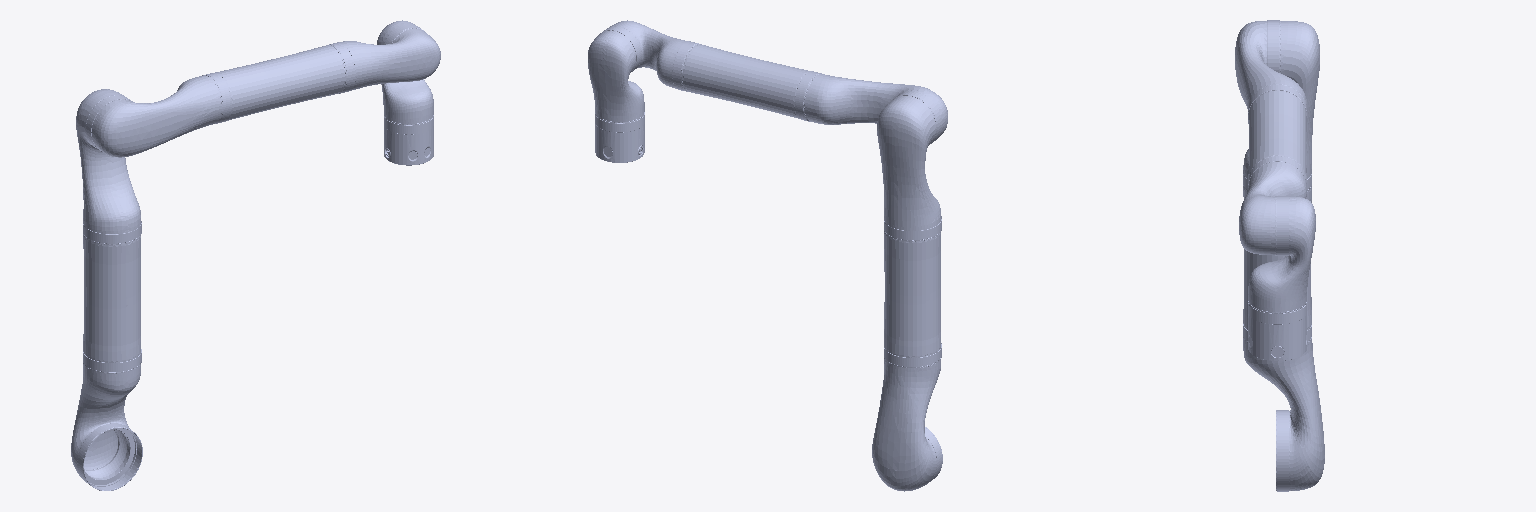
robot.urdf — tl_tcb705l:
<?xml version="1.0" encoding="utf-8"?>
<!-- This URDF was automatically created by SolidWorks to URDF Exporter! Originally created by Stephen Brawner (brawner@gmail.com) 
     Commit Version: 1.6.0-4-g7f85cfe  Build Version: 1.6.7995.38578
     For more information, please see http://wiki.ros.org/sw_urdf_exporter -->
<robot
  name="tl_tcb705l">
  <link
    name="link0">
    <inertial>
      <origin
        xyz="-0.00203916786698491 0.000208461233542917 0.0437970464318419"
        rpy="0 0 0" />
      <mass
        value="0.230943297728628" />
      <inertia
        ixx="0.000578857931988569"
        ixy="2.49644295158404E-06"
        ixz="-3.6276199422181E-06"
        iyy="0.000597326060992728"
        iyz="8.87603974516226E-07"
        izz="0.000630268815467388" />
    </inertial>
    <visual>
      <origin
        xyz="0 0 0"
        rpy="0 0 0" />
      <geometry>
        <mesh
          filename="package://tl_description/meshes/tl_tcb705l/link0.STL" />
      </geometry>
      <material
        name="">
        <color
          rgba="0.792156862745098 0.819607843137255 0.933333333333333 1" />
      </material>
    </visual>
    <collision>
      <origin
        xyz="0 0 0"
        rpy="0 0 0" />
      <geometry>
        <mesh
          filename="package://tl_description/meshes/tl_tcb705l/link0.STL" />
      </geometry>
    </collision>
  </link>
  <link
    name="link1">
    <inertial>
      <origin
        xyz="-2.82592835967246E-06 -0.0149440554612562 0.0760738628611228"
        rpy="0 0 0" />
      <mass
        value="0.188795049535535" />
      <inertia
        ixx="0.000644330974536614"
        ixy="5.55804168467068E-08"
        ixz="-5.40921744937778E-08"
        iyy="0.000669839544820847"
        iyz="0.000101917330586459"
        izz="0.000292784373513458" />
    </inertial>
    <visual>
      <origin
        xyz="0 0 0"
        rpy="0 0 0" />
      <geometry>
        <mesh
          filename="package://tl_description/meshes/tl_tcb705l/link1.STL" />
      </geometry>
      <material
        name="">
        <color
          rgba="0.792156862745098 0.819607843137255 0.933333333333333 1" />
      </material>
    </visual>
    <collision>
      <origin
        xyz="0 0 0"
        rpy="0 0 0" />
      <geometry>
        <mesh
          filename="package://tl_description/meshes/tl_tcb705l/link1.STL" />
      </geometry>
    </collision>
  </link>
  <joint
    name="joint1"
    type="revolute">
    <origin
      xyz="0 0 0.12215"
      rpy="0 0 0" />
    <parent
      link="link0" />
    <child
      link="link1" />
    <axis
      xyz="0 0 1" />
    <limit
      lower="-3.1416"
      upper="3.1416"
      effort="0"
      velocity="0" />
  </joint>
  <link
    name="link2">
    <inertial>
      <origin
        xyz="-4.20257383742726E-06 -0.19194400434504 -0.000180313359437804"
        rpy="0 0 0" />
      <mass
        value="0.528784681879454" />
      <inertia
        ixx="0.00599971810886578"
        ixy="1.42660874273815E-07"
        ixz="5.33946684288784E-10"
        iyy="0.000724362027518048"
        iyz="-0.00053988079982275"
        izz="0.00598246095196836" />
    </inertial>
    <visual>
      <origin
        xyz="0 0 0"
        rpy="0 0 0" />
      <geometry>
        <mesh
          filename="package://tl_description/meshes/tl_tcb705l/link2.STL" />
      </geometry>
      <material
        name="">
        <color
          rgba="0.792156862745098 0.819607843137255 0.933333333333333 1" />
      </material>
    </visual>
    <collision>
      <origin
        xyz="0 0 0"
        rpy="0 0 0" />
      <geometry>
        <mesh
          filename="package://tl_description/meshes/tl_tcb705l/link2.STL" />
      </geometry>
    </collision>
  </link>
  <joint
    name="joint2"
    type="revolute">
    <origin
      xyz="0 0.00665 0.14085"
      rpy="-1.5708 0 0" />
    <parent
      link="link1" />
    <child
      link="link2" />
    <axis
      xyz="0 0 1" />
    <limit
      lower="-2.3737"
      upper="2.3737"
      effort="0"
      velocity="0" />
  </joint>
  <link
    name="link3">
    <inertial>
      <origin
        xyz="5.14309382409588E-06 0.016397275627194 0.085950743765835"
        rpy="0 0 0" />
      <mass
        value="0.168577493982053" />
      <inertia
        ixx="0.000629527693750699"
        ixy="-2.01846512704536E-08"
        ixz="-6.31481179014002E-08"
        iyy="0.000646662243008361"
        iyz="-9.33674517466634E-05"
        izz="0.000173965232232951" />
    </inertial>
    <visual>
      <origin
        xyz="0 0 0"
        rpy="0 0 0" />
      <geometry>
        <mesh
          filename="package://tl_description/meshes/tl_tcb705l/link3.STL" />
      </geometry>
      <material
        name="">
        <color
          rgba="0.792156862745098 0.819607843137255 0.933333333333333 1" />
      </material>
    </visual>
    <collision>
      <origin
        xyz="0 0 0"
        rpy="0 0 0" />
      <geometry>
        <mesh
          filename="package://tl_description/meshes/tl_tcb705l/link3.STL" />
      </geometry>
    </collision>
  </link>
  <joint
    name="joint3"
    type="revolute">
    <origin
      xyz="0 -0.35915 -0.00665"
      rpy="1.5708 0 0" />
    <parent
      link="link2" />
    <child
      link="link3" />
    <axis
      xyz="0 0 1" />
    <limit
      lower="-3.1416"
      upper="3.1416"
      effort="0"
      velocity="0" />
  </joint>
  <link
    name="link4">
    <inertial>
      <origin
        xyz="4.67748622520898E-07 0.190684816385664 0.00158652388734265"
        rpy="0 0 0" />
      <mass
        value="0.422517069527334" />
      <inertia
        ixx="0.00489098627866591"
        ixy="9.20095599114699E-08"
        ixz="2.35656254351612E-09"
        iyy="0.000427800317518501"
        iyz="0.000428033380752947"
        izz="0.0048724694443363" />
    </inertial>
    <visual>
      <origin
        xyz="0 0 0"
        rpy="0 0 0" />
      <geometry>
        <mesh
          filename="package://tl_description/meshes/tl_tcb705l/link4.STL" />
      </geometry>
      <material
        name="">
        <color
          rgba="0.792156862745098 0.819607843137255 0.933333333333333 1" />
      </material>
    </visual>
    <collision>
      <origin
        xyz="0 0 0"
        rpy="0 0 0" />
      <geometry>
        <mesh
          filename="package://tl_description/meshes/tl_tcb705l/link4.STL" />
      </geometry>
    </collision>
  </link>
  <joint
    name="joint4"
    type="revolute">
    <origin
      xyz="0 -0.00515 0.16035"
      rpy="1.5708 1.5708 0" />
    <parent
      link="link3" />
    <child
      link="link4" />
    <axis
      xyz="0 0 -1" />
    <limit
      lower="-4.1423"
      upper="0.9935"
      effort="0"
      velocity="0" />
  </joint>
  <link
    name="link5">
    <inertial>
      <origin
        xyz="5.11048107014162E-06 -0.0131445598574518 0.0626746043899866"
        rpy="0 0 0" />
      <mass
        value="0.0899817886682776" />
      <inertia
        ixx="0.000204808490643616"
        ixy="1.16223792980809E-08"
        ixz="-4.07644803026248E-08"
        iyy="0.000207969738028478"
        iyz="3.60478115175274E-05"
        izz="7.75189800155889E-05" />
    </inertial>
    <visual>
      <origin
        xyz="0 0 0"
        rpy="0 0 0" />
      <geometry>
        <mesh
          filename="package://tl_description/meshes/tl_tcb705l/link5.STL" />
      </geometry>
      <material
        name="">
        <color
          rgba="0.792156862745098 0.819607843137255 0.933333333333333 1" />
      </material>
    </visual>
    <collision>
      <origin
        xyz="0 0 0"
        rpy="0 0 0" />
      <geometry>
        <mesh
          filename="package://tl_description/meshes/tl_tcb705l/link5.STL" />
      </geometry>
    </collision>
  </link>
  <joint
    name="joint5"
    type="revolute">
    <origin
      xyz="0 0.36715 -0.00515"
      rpy="-1.5708 0 0" />
    <parent
      link="link4" />
    <child
      link="link5" />
    <axis
      xyz="0 0 1" />
    <limit
      lower="-3.1416"
      upper="3.1416"
      effort="0"
      velocity="0" />
  </joint>
  <link
    name="link6">
    <inertial>
      <origin
        xyz="-1.29749982568617E-05 -0.0398707312600481 0.00873816110109462"
        rpy="0 0 0" />
      <mass
        value="0.0915266768417438" />
      <inertia
        ixx="0.000167005961446363"
        ixy="3.62631342384466E-08"
        ixz="1.27355290609001E-08"
        iyy="8.0713041391208E-05"
        iyz="-3.15887030570802E-05"
        izz="0.000170834721676797" />
    </inertial>
    <visual>
      <origin
        xyz="0 0 0"
        rpy="0 0 0" />
      <geometry>
        <mesh
          filename="package://tl_description/meshes/tl_tcb705l/link6.STL" />
      </geometry>
      <material
        name="">
        <color
          rgba="0.792156862745098 0.819607843137255 0.933333333333333 1" />
      </material>
    </visual>
    <collision>
      <origin
        xyz="0 0 0"
        rpy="0 0 0" />
      <geometry>
        <mesh
          filename="package://tl_description/meshes/tl_tcb705l/link6.STL" />
      </geometry>
    </collision>
  </link>
  <joint
    name="joint6"
    type="revolute">
    <origin
      xyz="0 0.00615 0.11335"
      rpy="-1.5708 1.5708 0" />
    <parent
      link="link5" />
    <child
      link="link6" />
    <axis
      xyz="0 0 1" />
    <limit
      lower="-3.8386"
      upper="0.6970"
      effort="0"
      velocity="0" />
  </joint>
  <link
    name="link7">
    <inertial>
      <origin
        xyz="0.00038939749044996 -8.96781011563167E-05 0.0324677284602475"
        rpy="0 0 0" />
      <mass
        value="0.0756964619257995" />
      <inertia
        ixx="5.73362607122953E-05"
        ixy="-1.00642148858379E-08"
        ixz="-3.24157450634543E-07"
        iyy="5.7604236883255E-05"
        iyz="1.43757533804165E-08"
        izz="7.09157247329385E-05" />
    </inertial>
    <visual>
      <origin
        xyz="0 0 0"
        rpy="0 0 0" />
      <geometry>
        <mesh
          filename="package://tl_description/meshes/tl_tcb705l/link7.STL" />
      </geometry>
      <material
        name="">
        <color
          rgba="0.792156862745098 0.819607843137255 0.933333333333333 1" />
      </material>
    </visual>
    <collision>
      <origin
        xyz="0 0 0"
        rpy="0 0 0" />
      <geometry>
        <mesh
          filename="package://tl_description/meshes/tl_tcb705l/link7.STL" />
      </geometry>
    </collision>
  </link>
  <joint
    name="joint7"
    type="revolute">
    <origin
      xyz="0 -0.10615 -0.00615"
      rpy="1.5708 0 0" />
    <parent
      link="link6" />
    <child
      link="link7" />
    <axis
      xyz="0 0 1" />
    <limit
      lower="-3.1416"
      upper="3.1416"
      effort="0"
      velocity="0" />
  </joint>
</robot>

--- Render facts (derived) ---
3 views of the same robot in one strip: view 1: azimuth 30°, elevation 25°; view 2: azimuth 150°, elevation 25°; view 3: azimuth 270°, elevation 25° (orthographic).
Robot: tl_tcb705l — 8 links, 7 joints (7 revolute); root link link0; default pose: every joint at zero.
Links seen in each view (by area): view 1: link2, link4, link3, link5, link6, link7; view 2: link2, link4, link3, link6, link5, link7; view 3: link2, link4, link6, link5, link3, link7.
Link boxes in pixels (x1,y1,x2,y2): link2: [71, 235, 142, 490]; link4: [85, 45, 345, 157]; link3: [76, 89, 141, 244]; link5: [329, 28, 440, 93]; link6: [377, 20, 433, 123]; link7: [384, 115, 433, 165]; link2: [872, 232, 942, 491]; link4: [682, 44, 947, 143]; link3: [877, 96, 941, 241]; link6: [588, 26, 644, 121]; link5: [610, 20, 698, 91]; link7: [595, 112, 644, 162]; link2: [1243, 187, 1324, 491]; link4: [1235, 20, 1306, 176]; link6: [1248, 196, 1315, 311]; link5: [1239, 156, 1306, 254]; link3: [1243, 21, 1319, 191]; link7: [1248, 301, 1306, 360].
Size in the robot's own frame: 0.5643 by 0.1071 by 0.6093 metres.
6 mesh visuals loaded from 8 distinct referenced files (6 binary STL); not drawn: 2 (reference not matched to a file when rendering).
